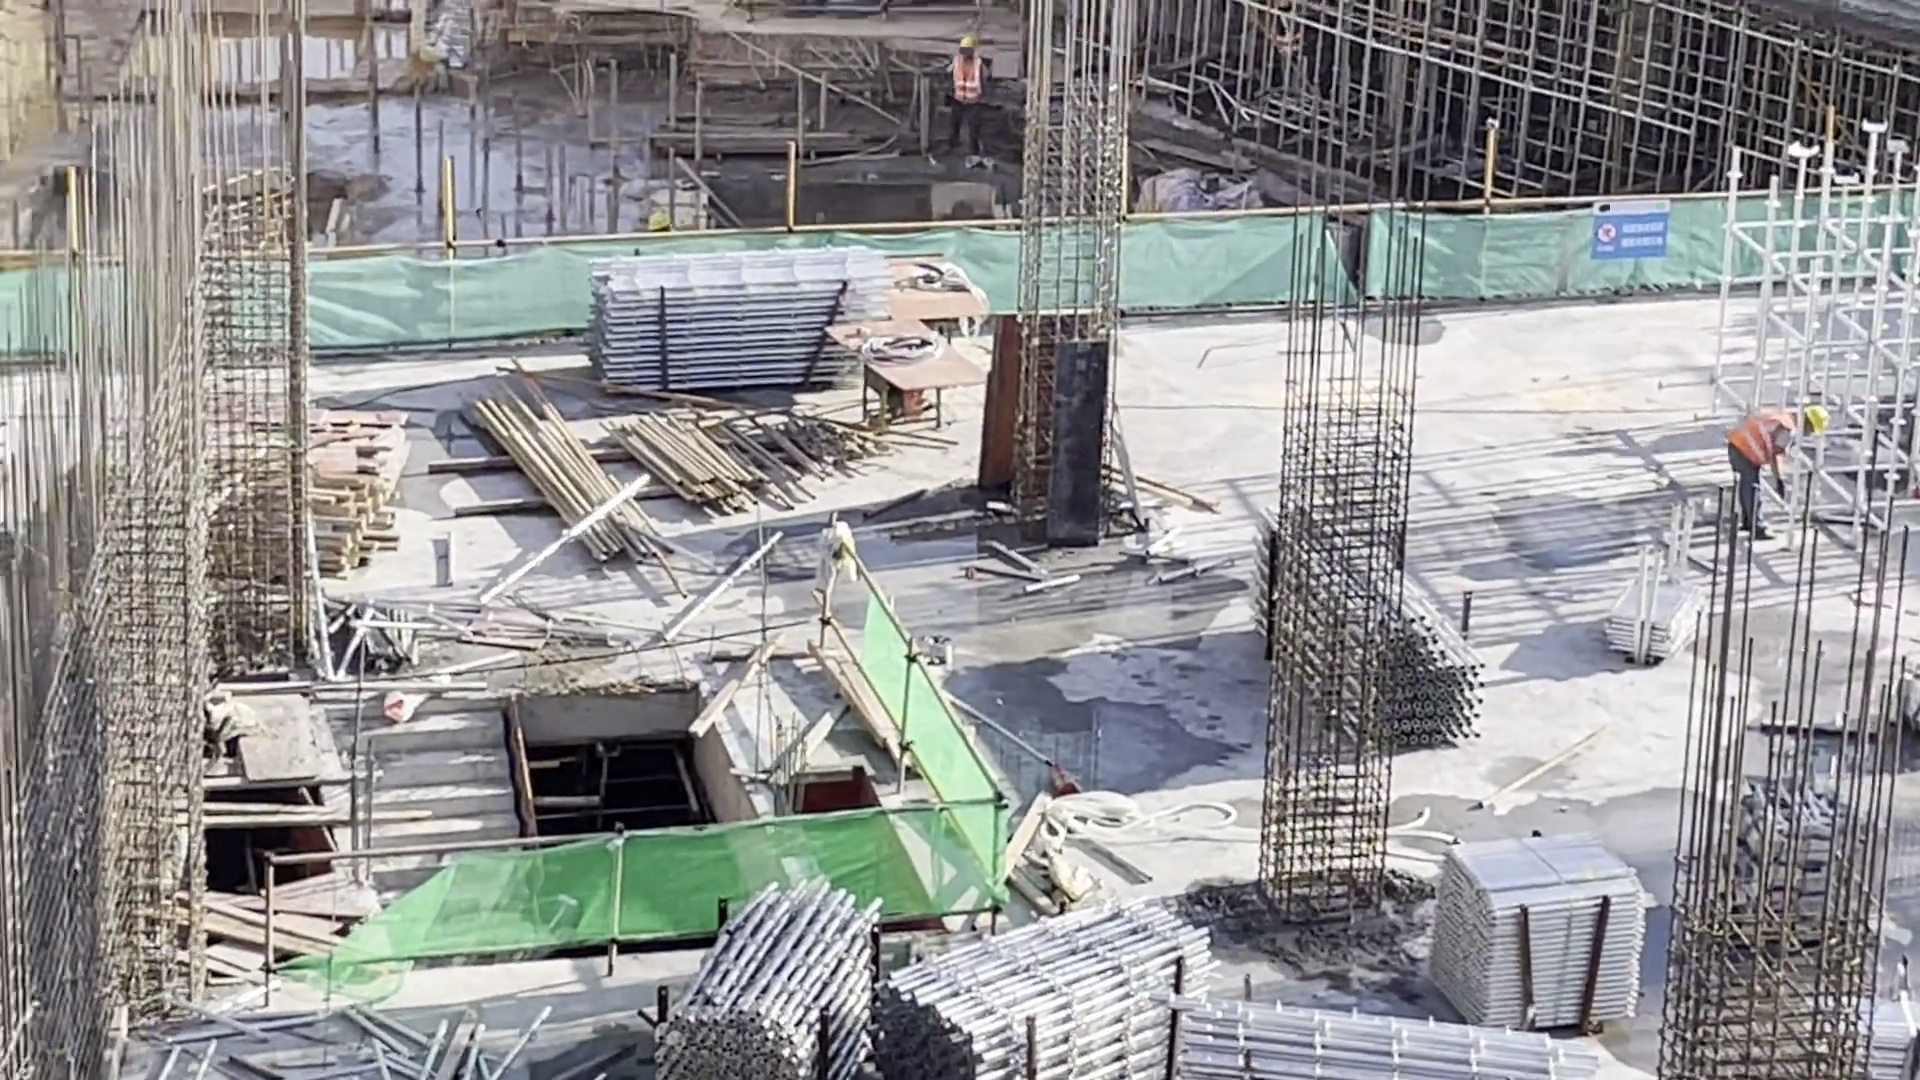cutter: (834, 313, 950, 426), (892, 256, 978, 322)
helmet: (1807, 406, 1829, 438), (649, 212, 671, 231), (960, 36, 983, 50)
person: (1718, 395, 1834, 542), (946, 30, 995, 161)
scaffold: (932, 920, 1223, 1080), (585, 268, 880, 403), (1455, 835, 1668, 1020), (1157, 968, 1469, 1080), (679, 891, 851, 1080), (1604, 559, 1702, 659)
slogan: (1606, 212, 1666, 262)
vest: (1726, 416, 1796, 482), (955, 60, 985, 103)
wood: (224, 441, 388, 580)
